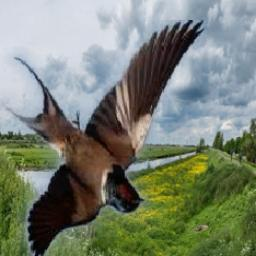Swallow: (0, 21, 206, 256)
